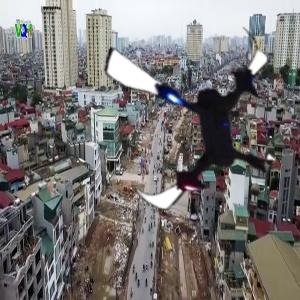drone: (87, 11, 298, 222)
